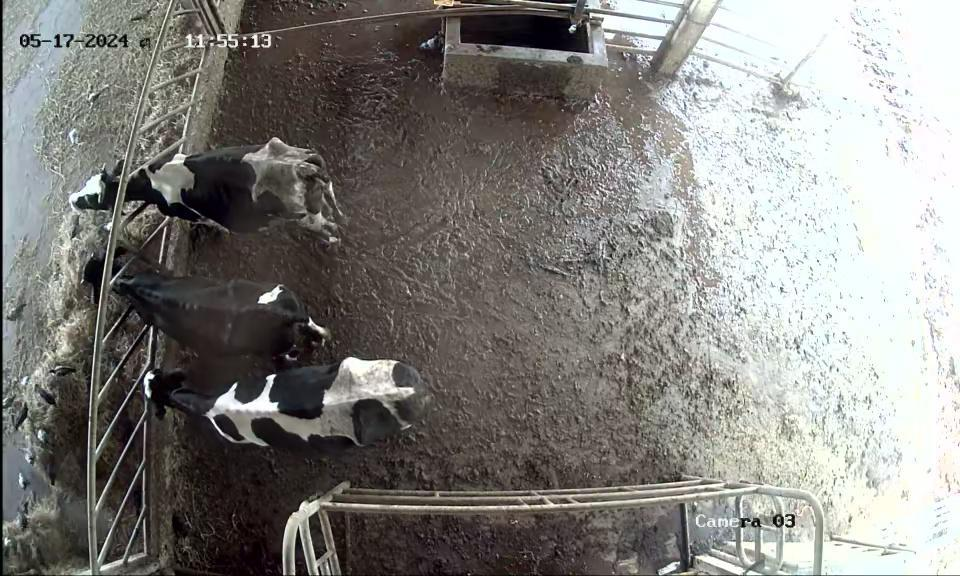eat: (38, 147, 188, 232), (49, 245, 165, 319)
stand: (137, 349, 437, 466)
